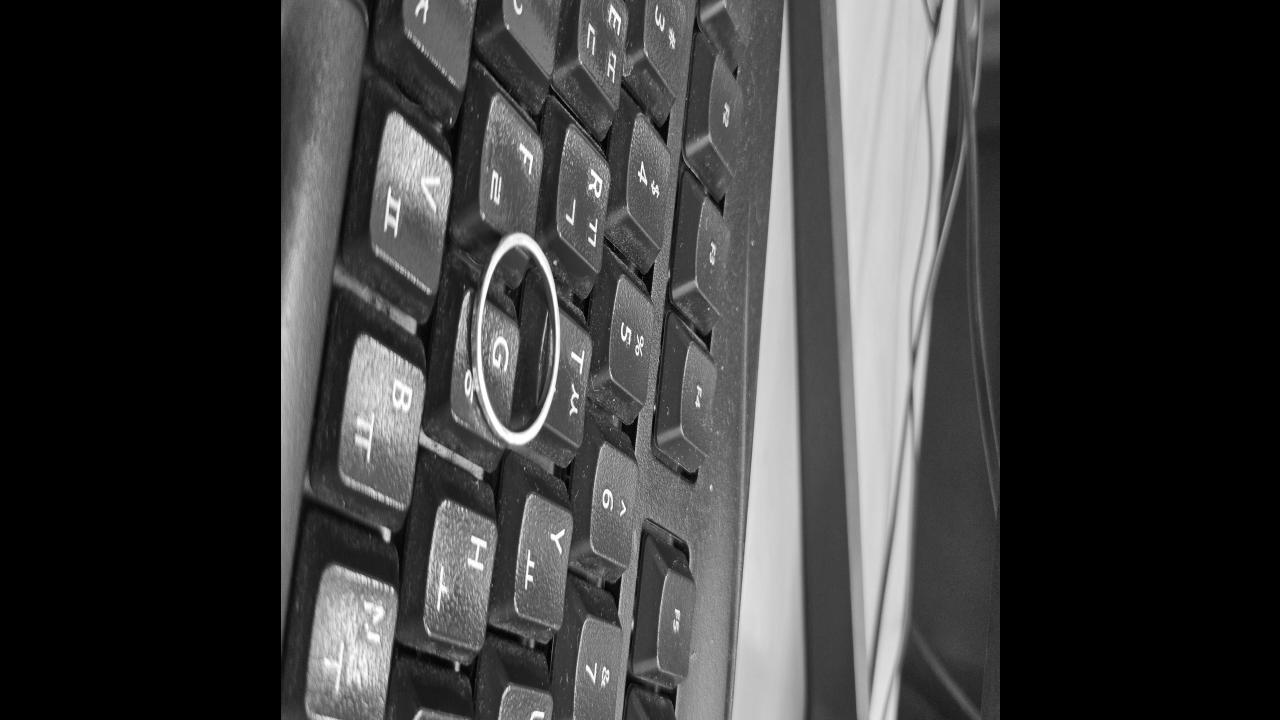ring: (468, 230, 560, 450)
